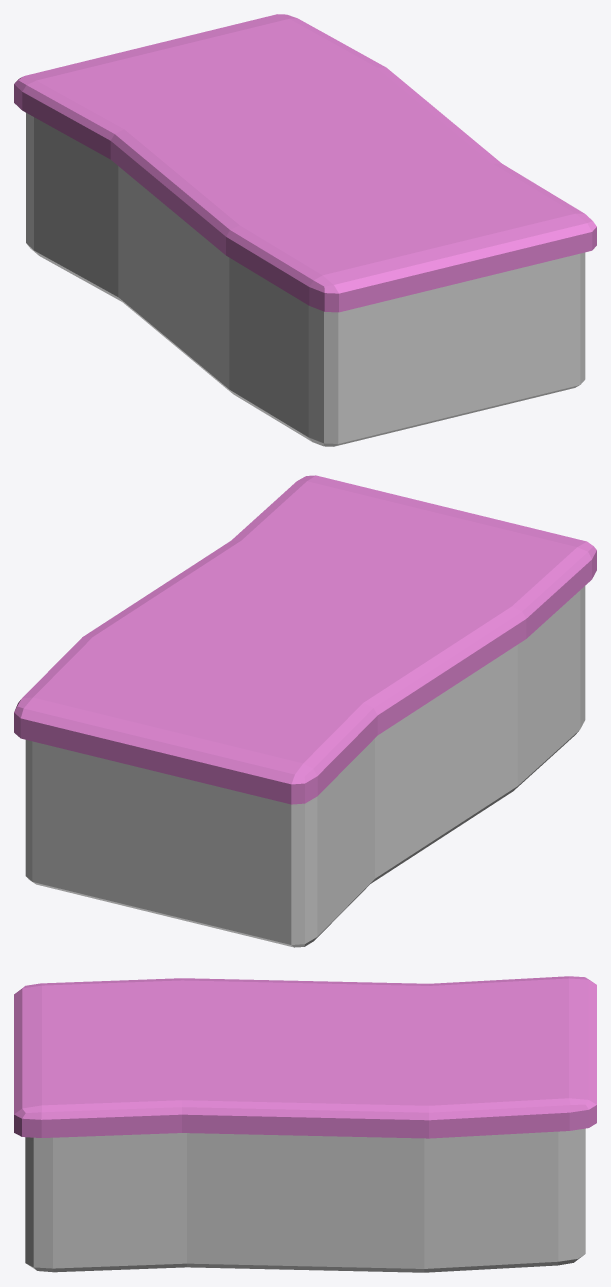
The model's file is Kopie von Eispackung.fbx.
3 views of the same model, one above another, from view 1: azimuth 30°, elevation 25°; view 2: azimuth 150°, elevation 25°; view 3: azimuth 270°, elevation 25° (orthographic). The views are drawn at different scales.
Visible parts, largest first — view 1: Cube; view 2: Cube; view 3: Cube.
Boxes of the visible parts, x1,y1,x2,y2 form: Cube: (14,14,596,446); Cube: (14,475,596,947); Cube: (14,976,596,1272).
Bounding box in the file's own units: 220 × 122 × 386.
